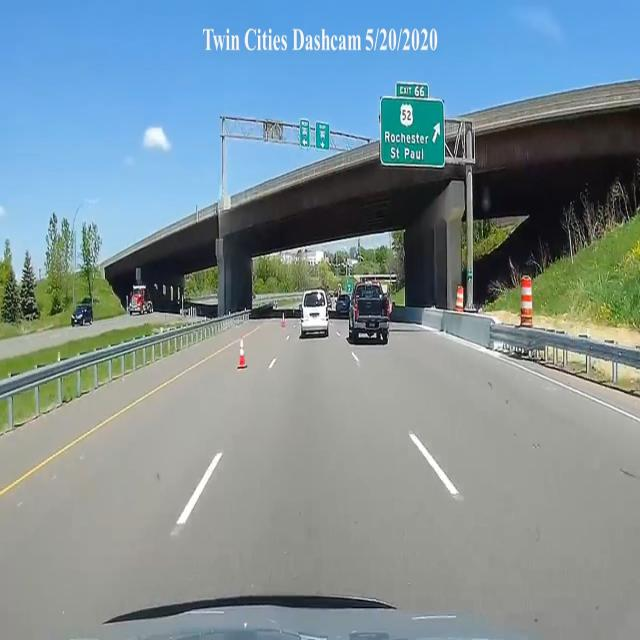Traffic Cone: (234, 343, 251, 371)
